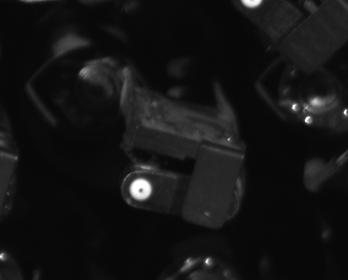fiber: (124, 173, 158, 204)
